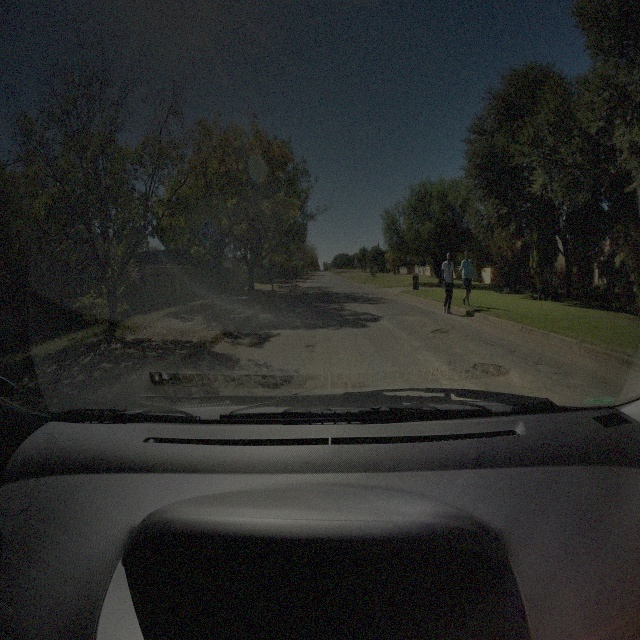pothole: (472, 359, 509, 380), (430, 326, 450, 338), (305, 342, 317, 349)
